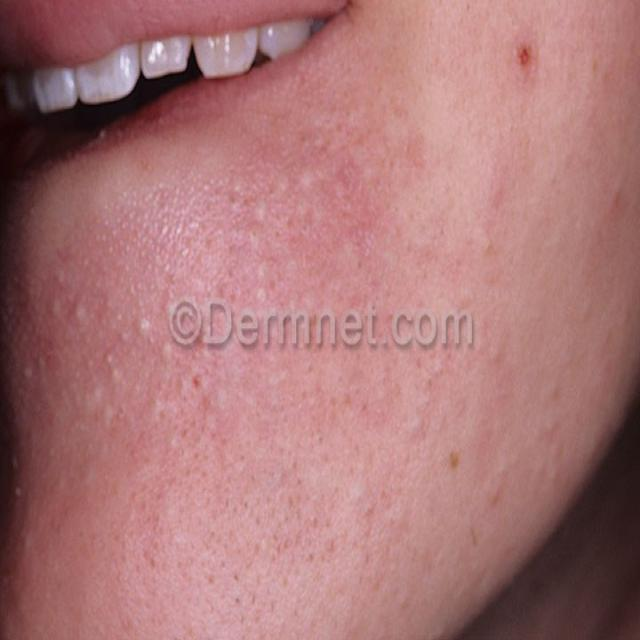acne: (223, 109, 350, 325), (24, 282, 184, 424), (196, 316, 270, 446), (510, 5, 549, 75)
